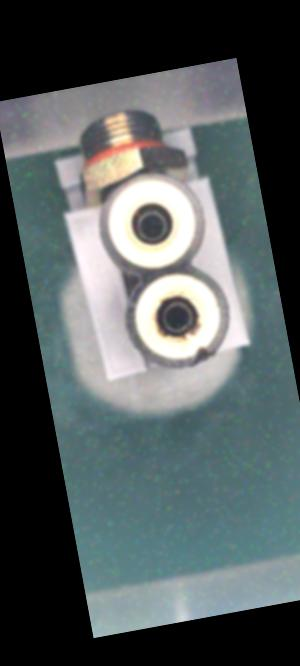bump: (186, 340, 219, 373)
